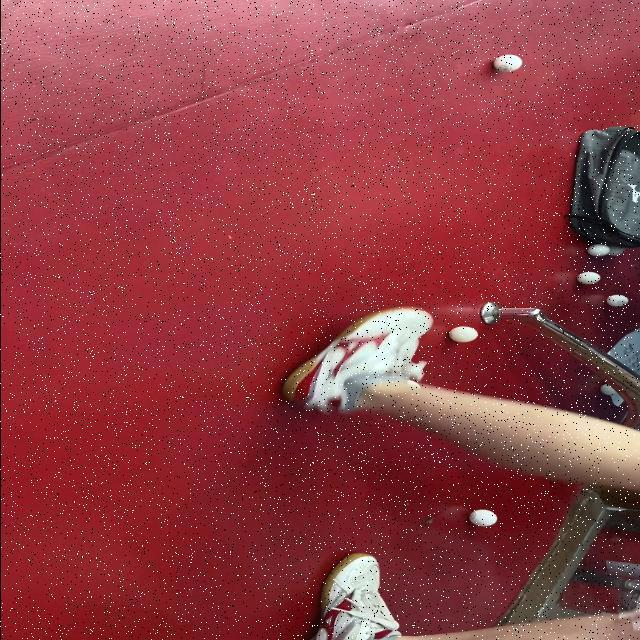ping-pong-ball: (466, 508, 500, 528), (446, 324, 480, 344), (491, 53, 523, 73), (584, 242, 612, 258), (574, 271, 600, 285), (604, 294, 630, 308)
